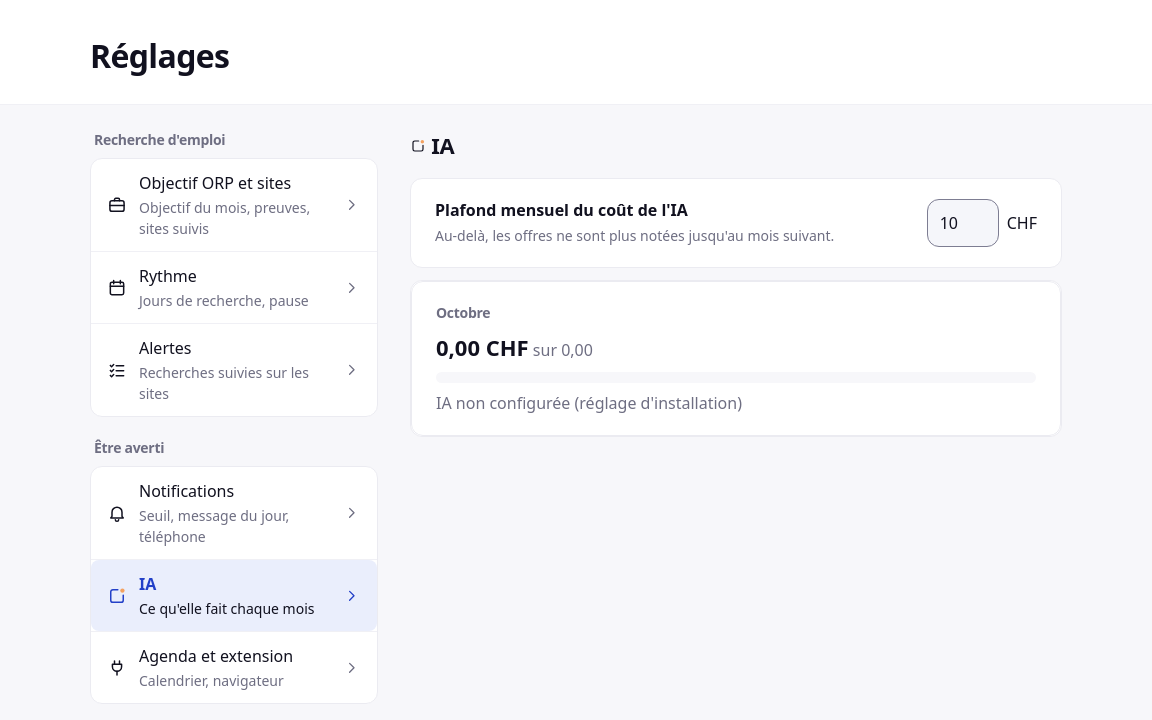
Test: SettingsView, comptes (docs/65) › exploitant : le plafond de l'IA s'enregistre au changement (docs/106)
This screenshot has width=1152, height=720.
Replace the text in the number field with test id "budget" with "12" at (963, 223), box [927, 199, 999, 247]
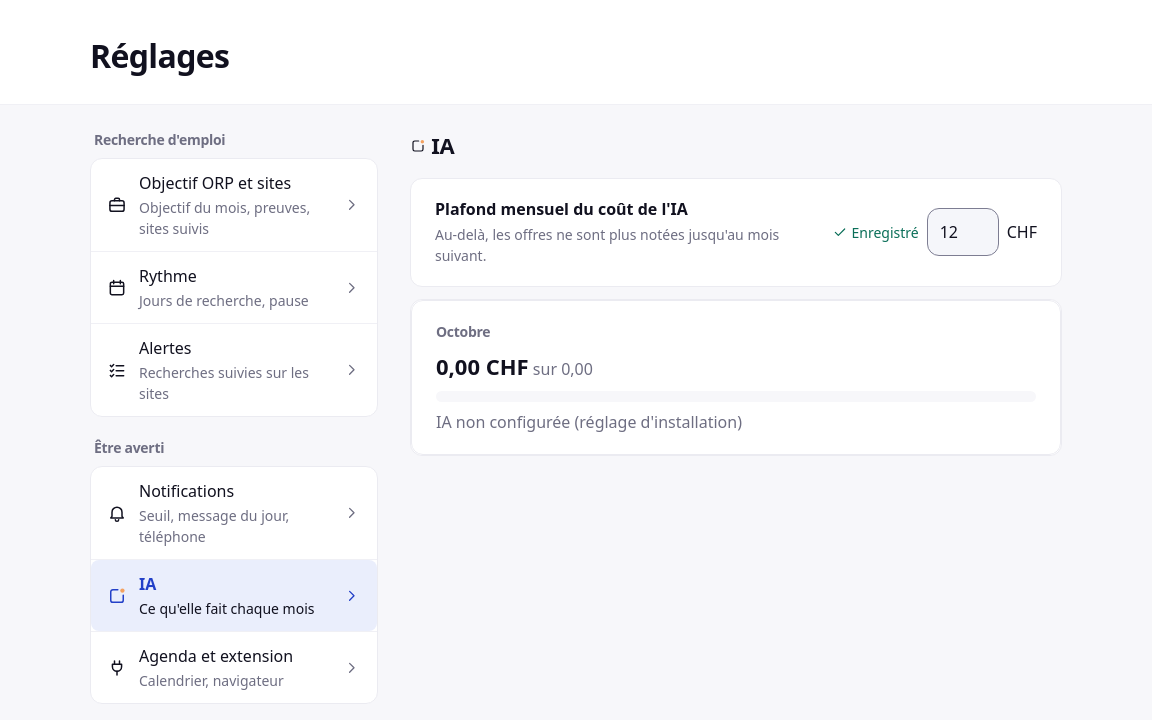
Expected: the message with test id "setting-saved" reads "Enregistré", [852, 223, 919, 242]
